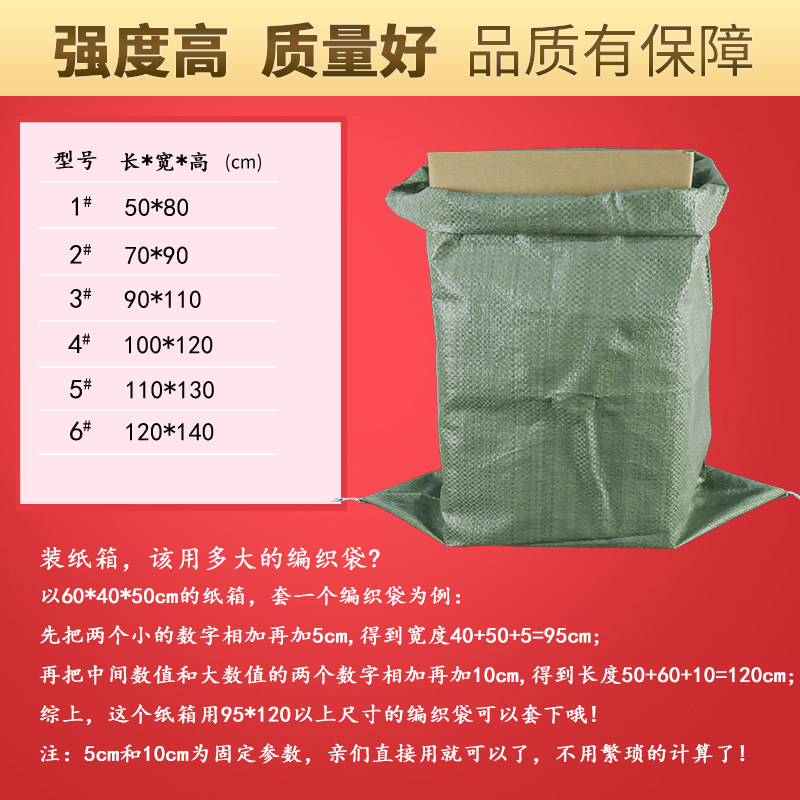Parcel: (364, 148, 788, 548)
